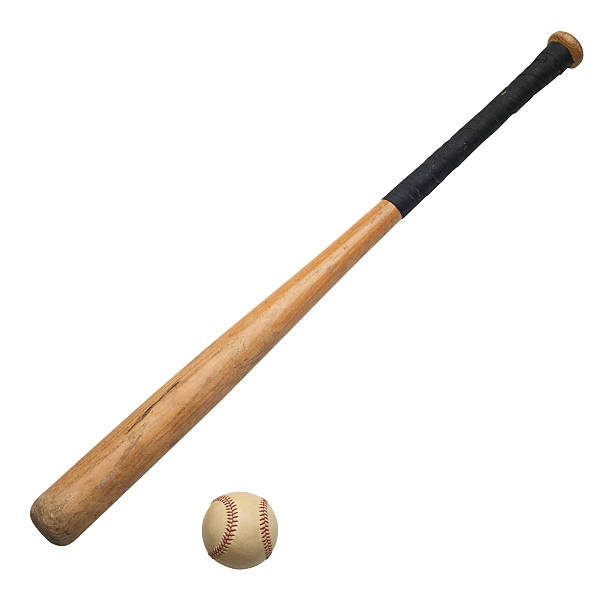bita: (28, 40, 577, 550)
